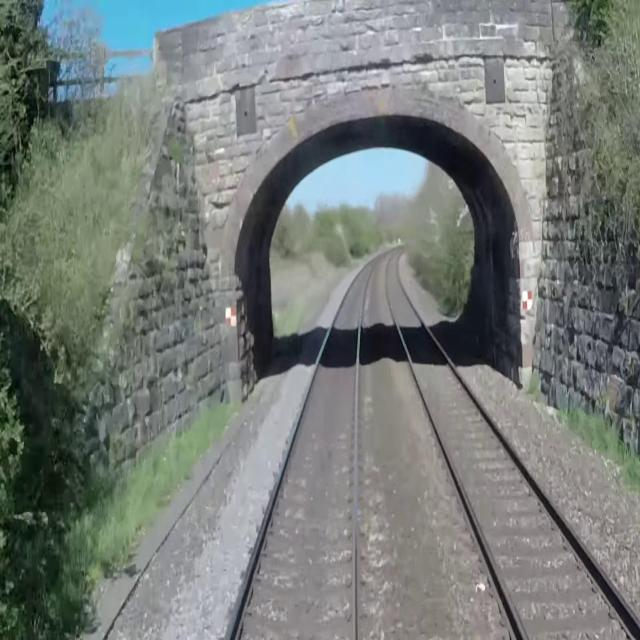rail-track: (386, 249, 640, 639), (229, 253, 383, 639)
